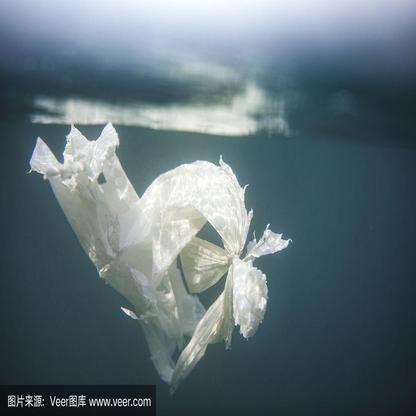plastic bag: (30, 125, 289, 391)
